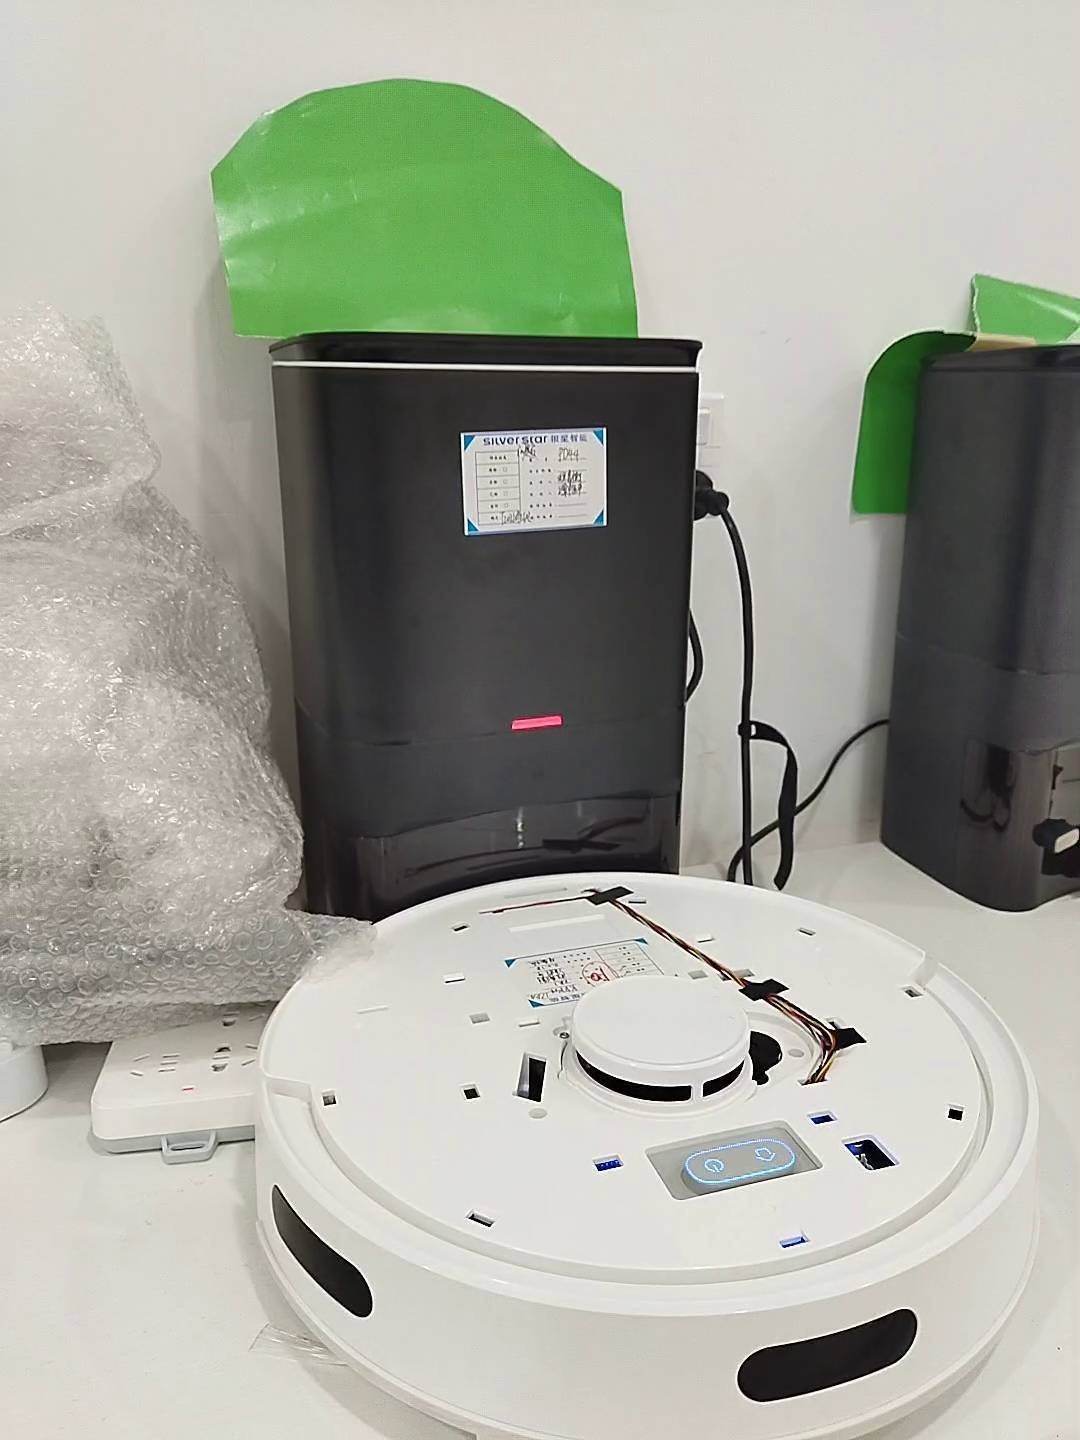dust collecting barrel: (270, 330, 708, 922), (877, 344, 1080, 910)
